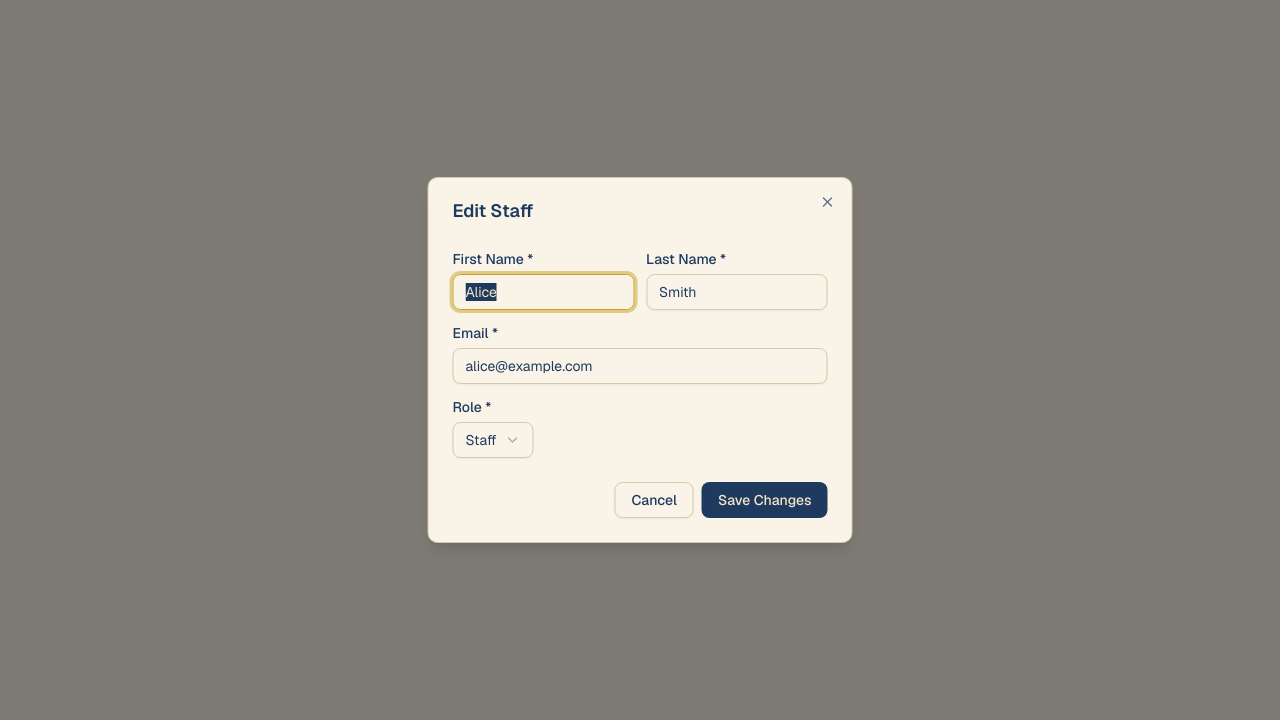
Test: StaffDialog access-reset warning › F1: warns, relabels the button and links the warning to the email field when a set-up account's email changes
The width and height of the screenshot is (1280, 720).
Check: the button "Save Changes" is shown, box [702, 482, 828, 518]
Replace the text in the field labelled "Email *" with "right.person@example.com" at (640, 366), box [452, 348, 828, 384]
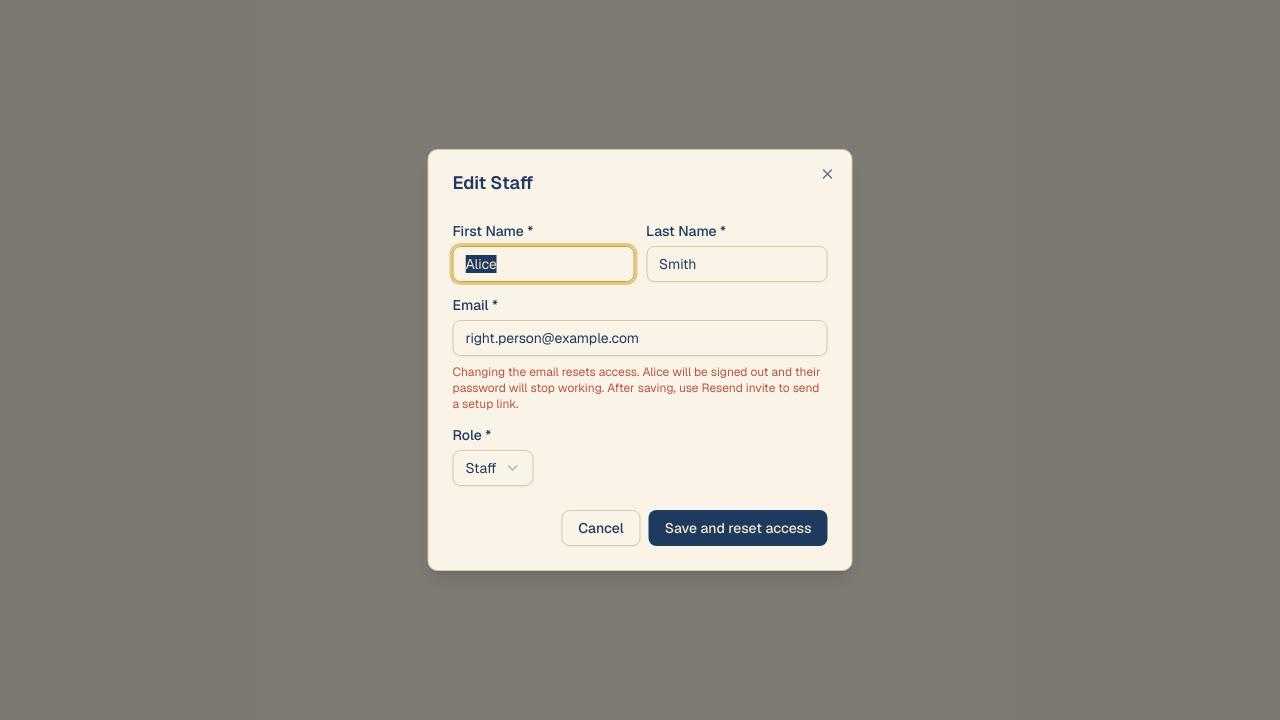
Check: the message shows "Changing the email resets access. Alice will be signed out and their password will stop working. After saving, use Resend invite to send a setup link.", box [452, 364, 820, 412]
Check: the button "Save and reset access" is shown, box [649, 510, 828, 546]
Check: the button "Save Changes" is gone
